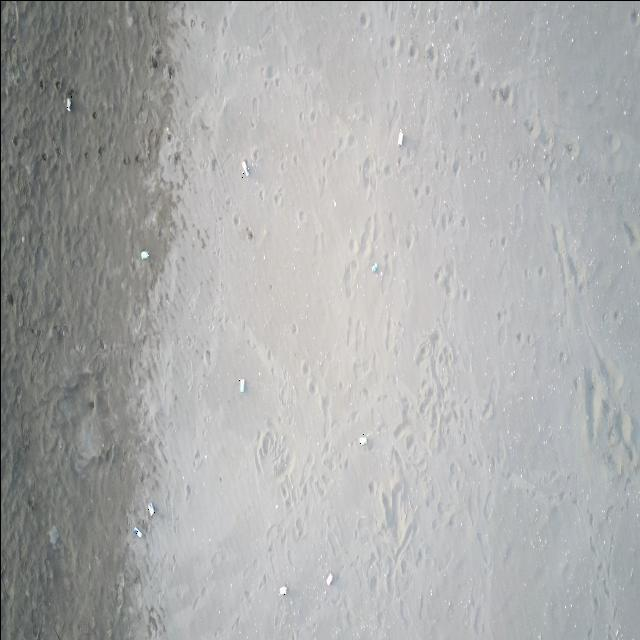Garbage: (48, 526, 59, 544), (147, 502, 155, 515), (359, 433, 367, 446), (397, 128, 403, 145), (241, 160, 247, 176), (65, 96, 71, 111), (279, 584, 287, 595), (371, 261, 379, 272), (140, 249, 148, 260), (132, 527, 141, 536), (239, 377, 244, 392), (327, 572, 332, 584), (332, 199, 335, 207)
